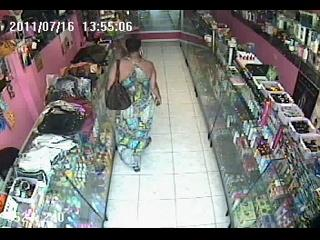Normal: (105, 37, 161, 172), (105, 59, 131, 111)
